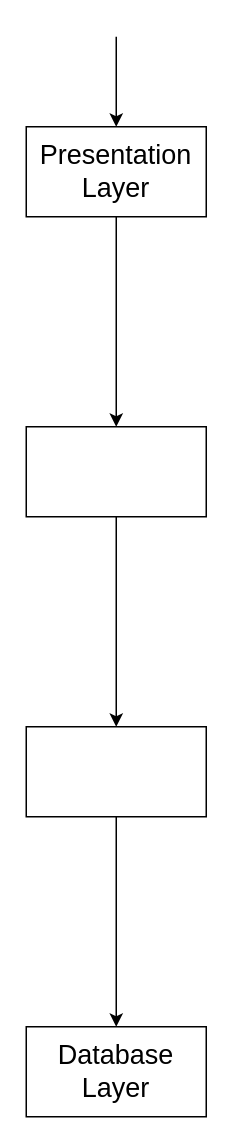
This 233x1143 diagram has some shape labels left out. Each missing label, with the centre of its shape:
Business Layer: [115,471]
Data Layer: [115,771]
